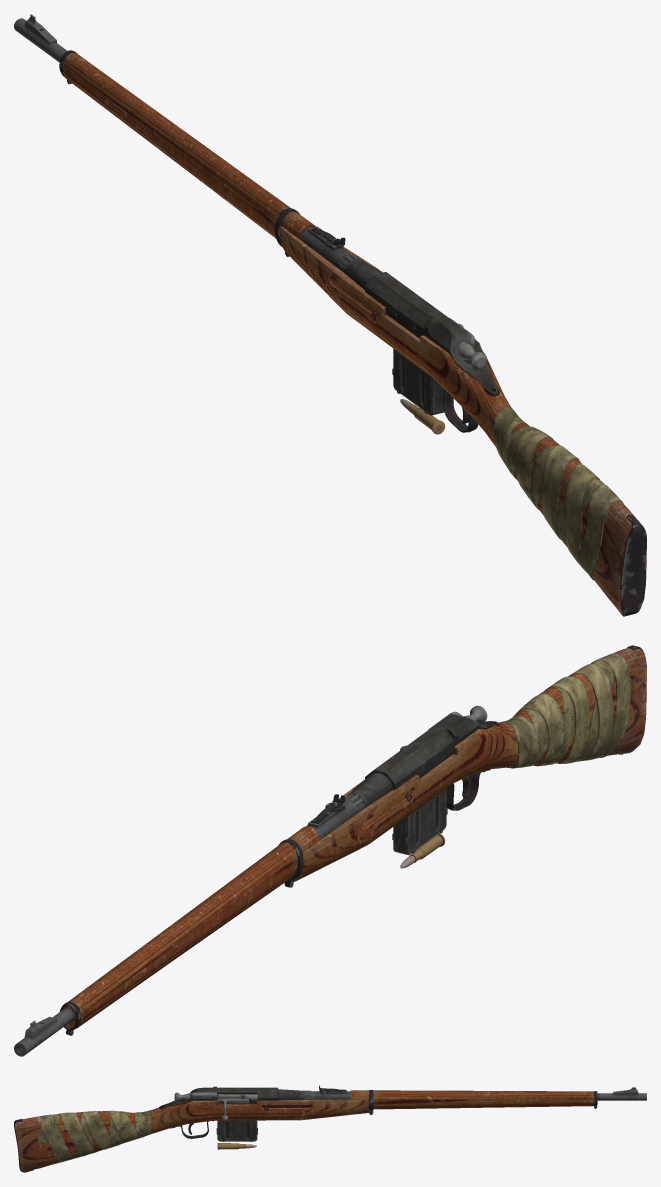
Rendered from rifle.glb.
The picture shows the model from 3 angles, top to bottom: view 1: azimuth 30°, elevation 25°; view 2: azimuth 150°, elevation 25°; view 3: azimuth 270°, elevation 25°; orthographic projection. The views are drawn at different scales.
Parts seen in each view (by area): view 1: Body; view 2: Body; view 3: Body, Bolt, Round.
Part boxes in pixels (bbox=[...]): Body: bbox=[14, 14, 646, 616]; Body: bbox=[14, 645, 646, 1056]; Body: bbox=[14, 1085, 646, 1172]; Bolt: bbox=[174, 1092, 257, 1121]; Round: bbox=[217, 1142, 256, 1149].
Bounding box in the file's own units: 0.0617 × 0.1827 × 1.23.
2 materials, 2 textured.
